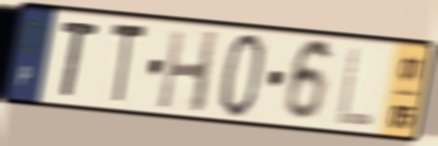0: (216, 31, 268, 121)
6: (279, 36, 337, 128)
H: (155, 27, 222, 117)
L: (333, 44, 377, 130)
T: (108, 19, 150, 108), (58, 17, 102, 101)
